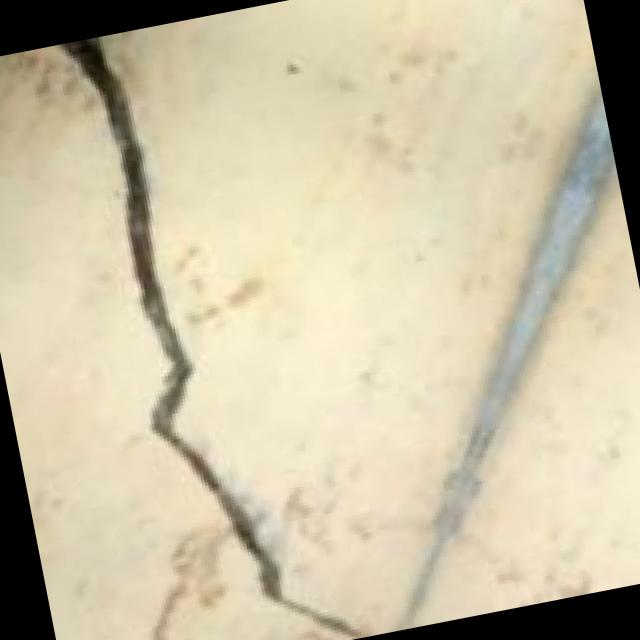crack: (24, 4, 405, 640)
